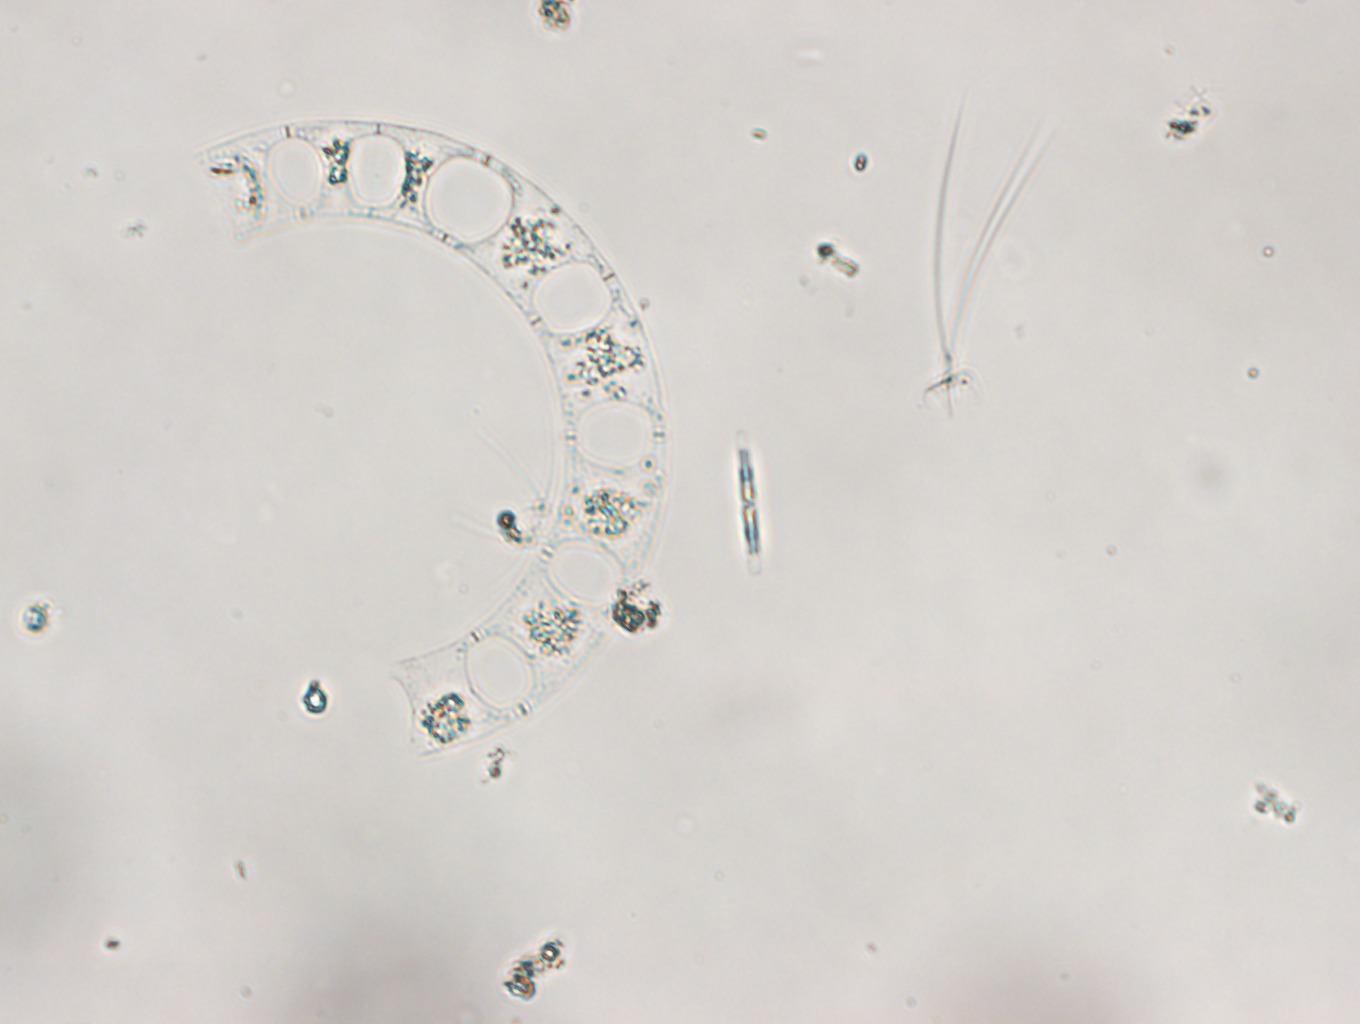chaetoceros: (922, 88, 1044, 411)
eucampia: (194, 117, 665, 758)
